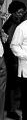boots: (6, 111, 21, 119), (0, 117, 12, 120)
hard-hat: (15, 20, 27, 37)
ppe-suit: (0, 10, 14, 120)
